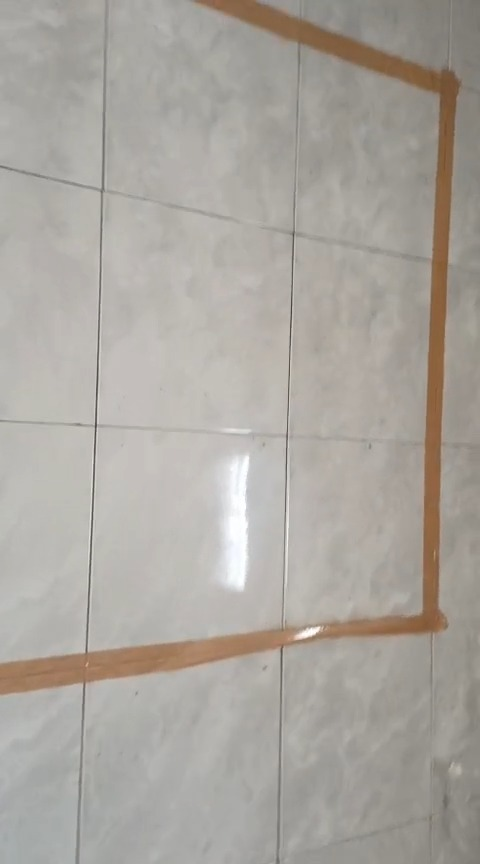floor marking: (0, 0, 459, 694)
